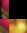heart: (0, 0, 9, 19), (0, 19, 9, 33)
